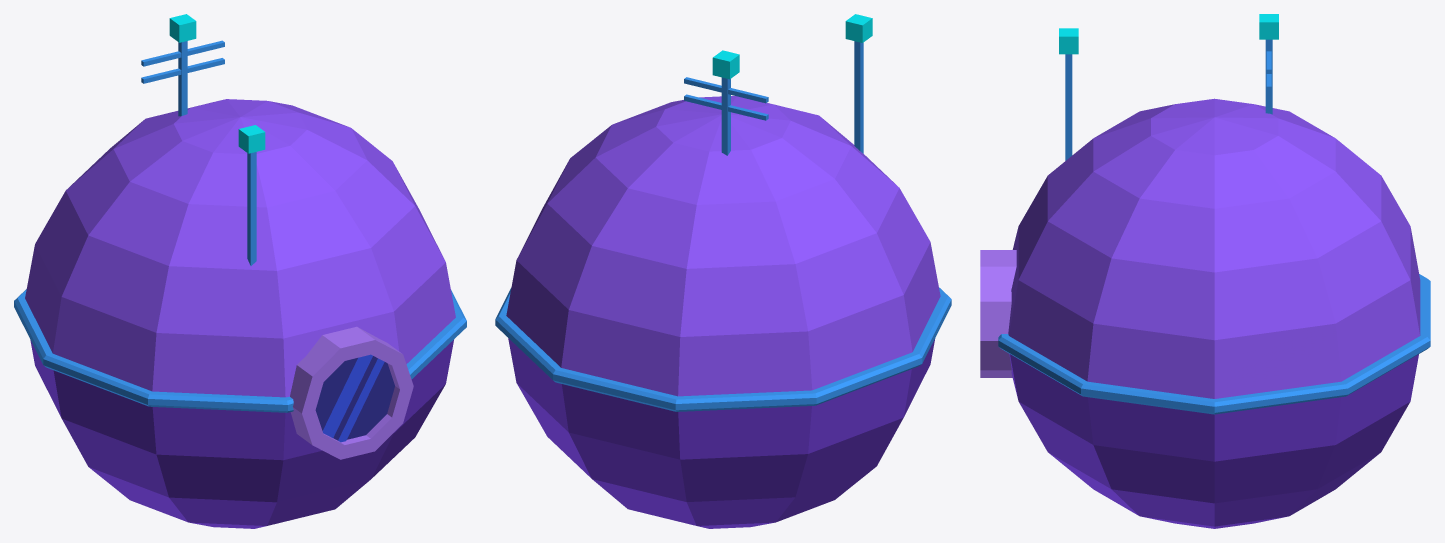
The model's file is Building_014_g.fbx.
3 views of the same model, side by side, from view 1: azimuth 30°, elevation 25°; view 2: azimuth 150°, elevation 25°; view 3: azimuth 270°, elevation 25° (orthographic).
Visible parts, largest first — view 1: Building_014_g; view 2: Building_014_g; view 3: Building_014_g.
Part boxes in pixels (x1,y1,x2,y2): Building_014_g: [14, 14, 466, 528]; Building_014_g: [495, 14, 951, 528]; Building_014_g: [980, 14, 1430, 528].
Size of the model in its own units: 13.22 by 15.33 by 13.1.
